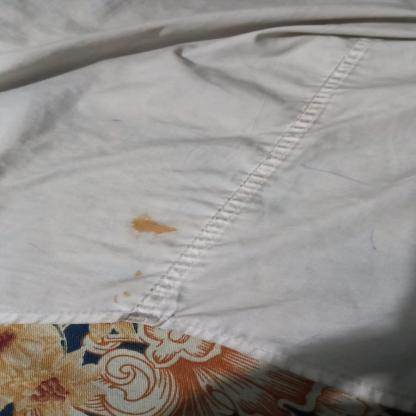spot: (118, 212, 190, 240), (104, 290, 139, 304), (132, 267, 150, 281)
